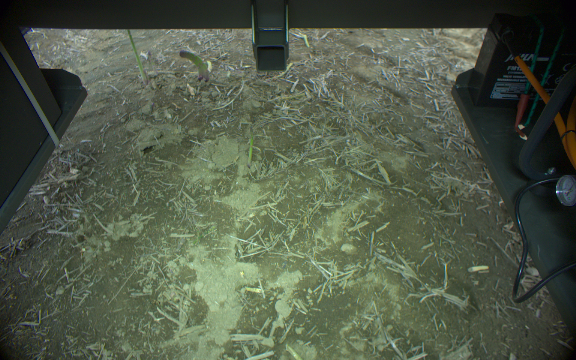aspa: (125, 29, 149, 85), (177, 49, 209, 83), (245, 124, 255, 167)
